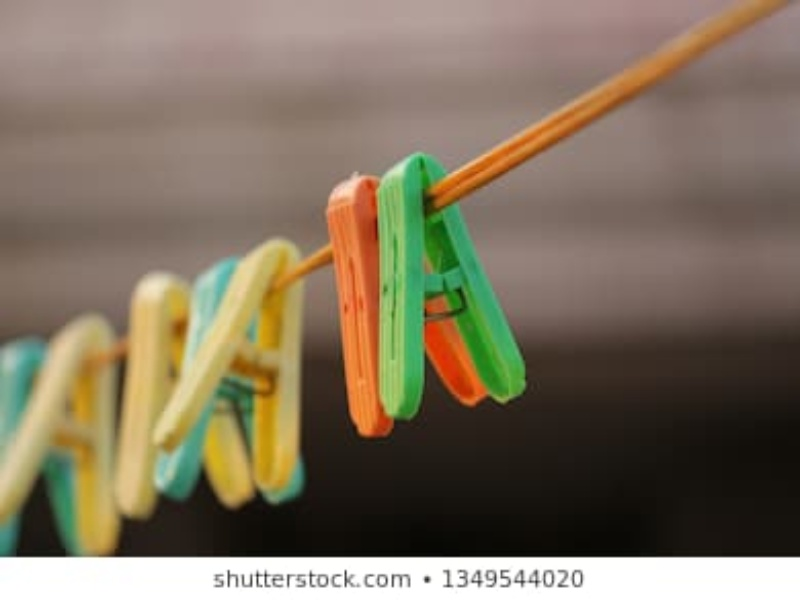plastic-peg: (373, 143, 541, 429), (307, 161, 439, 438), (166, 237, 313, 485), (1, 296, 120, 560)
